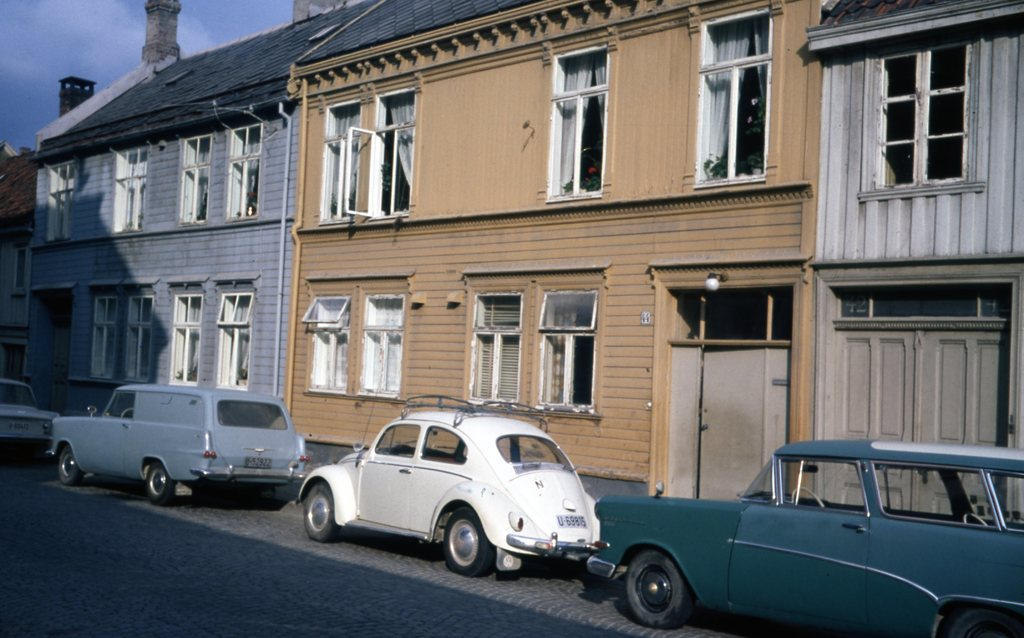Car: (591, 436, 1023, 637), (287, 410, 628, 591), (48, 386, 313, 510), (0, 379, 58, 441)
